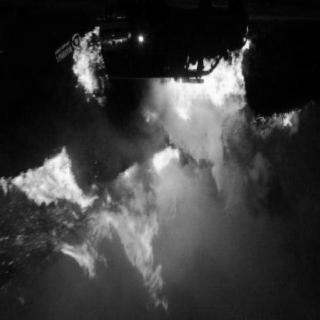Fire: (3, 144, 174, 300), (71, 20, 127, 119)
other: (125, 22, 151, 54)
